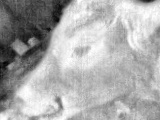eye: (73, 39, 94, 61)
